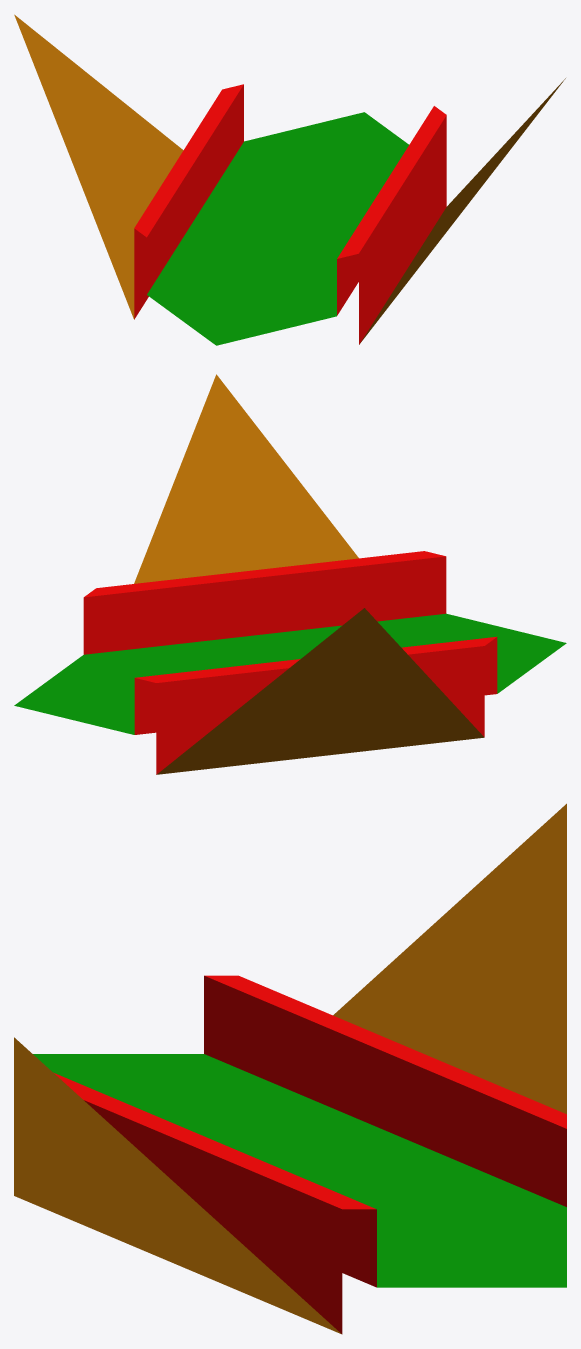
The picture shows the model from 3 angles, top to bottom: view 1: azimuth 30°, elevation 25°; view 2: azimuth 150°, elevation 25°; view 3: azimuth 270°, elevation 25°; orthographic projection. The views are drawn at different scales.
Parts seen in each view (by area): view 1: None_W_S_E_E_S_W_E_E_None; view 2: None_W_S_E_E_S_W_E_E_None; view 3: None_W_S_E_E_S_W_E_E_None.
Part boxes in pixels (<box>): None_W_S_E_E_S_W_E_E_None: <box>14,14,565,345</box>; None_W_S_E_E_S_W_E_E_None: <box>14,374,566,774</box>; None_W_S_E_E_S_W_E_E_None: <box>14,803,566,1334</box>.
Bounding box in the file's own units: 100 × 59.38 × 100.
